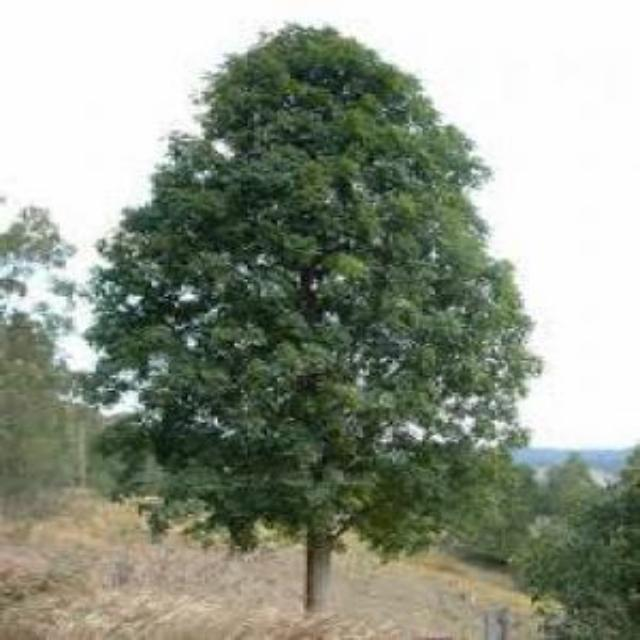tree: (84, 18, 542, 616)
